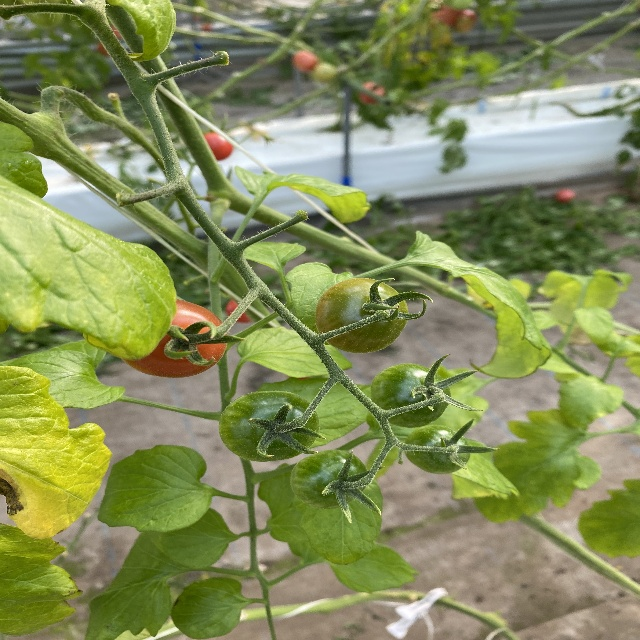l_fully_ripened: (119, 299, 228, 378)
l_green: (218, 390, 320, 462), (371, 363, 452, 428), (290, 449, 369, 510), (403, 423, 471, 475)
l_half_ripened: (315, 277, 410, 353)
